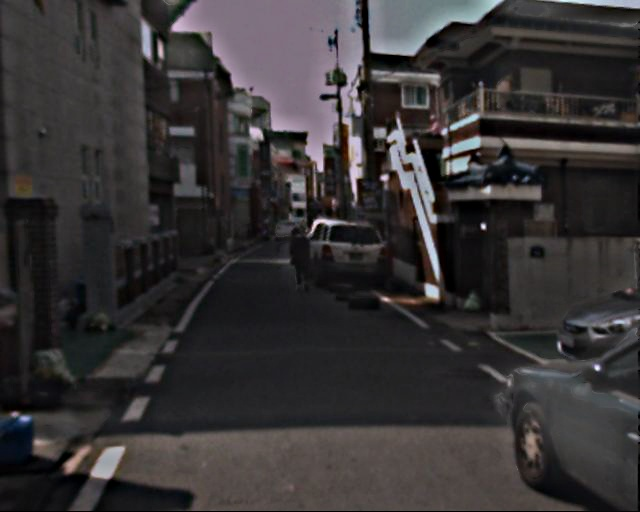person: (286, 226, 314, 295)
